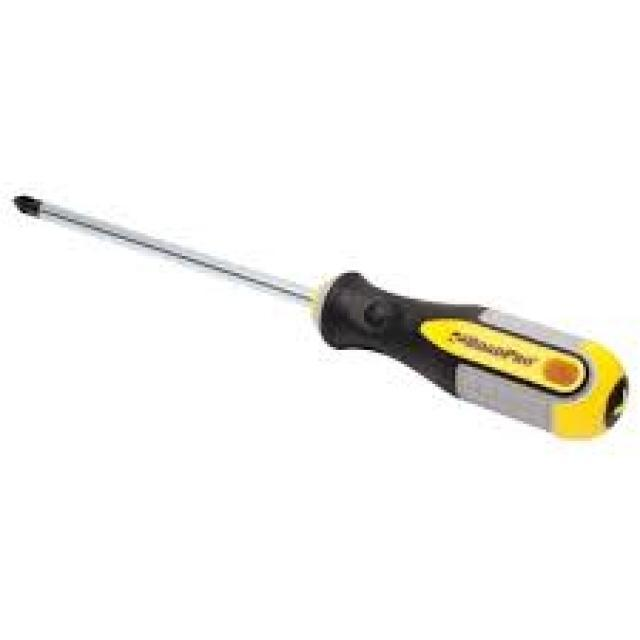screwdriver: (7, 184, 636, 442)
